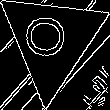O_E: (26, 17, 77, 65)
